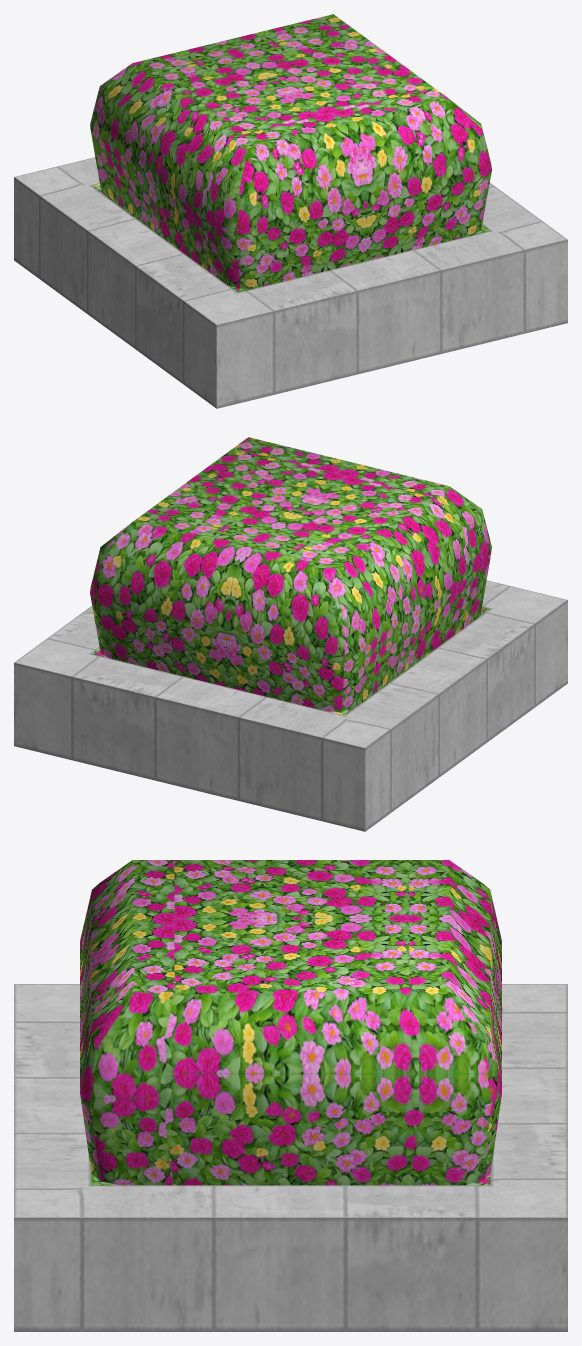
Rendered from VEG0310038.fbx.
The picture shows the model from 3 angles, top to bottom: view 1: azimuth 30°, elevation 25°; view 2: azimuth 150°, elevation 25°; view 3: azimuth 270°, elevation 25°; orthographic projection. The views are drawn at different scales.
Parts seen in each view (by area): view 1: smVEG0310038; view 2: smVEG0310038; view 3: smVEG0310038.
Boxes of the visible parts, x1,y1,x2,y2 form: smVEG0310038: [14, 14, 567, 408]; smVEG0310038: [14, 437, 567, 831]; smVEG0310038: [14, 860, 567, 1331].
Size of the model in its own units: 115 by 66.08 by 115.
1 material, 1 textured.
